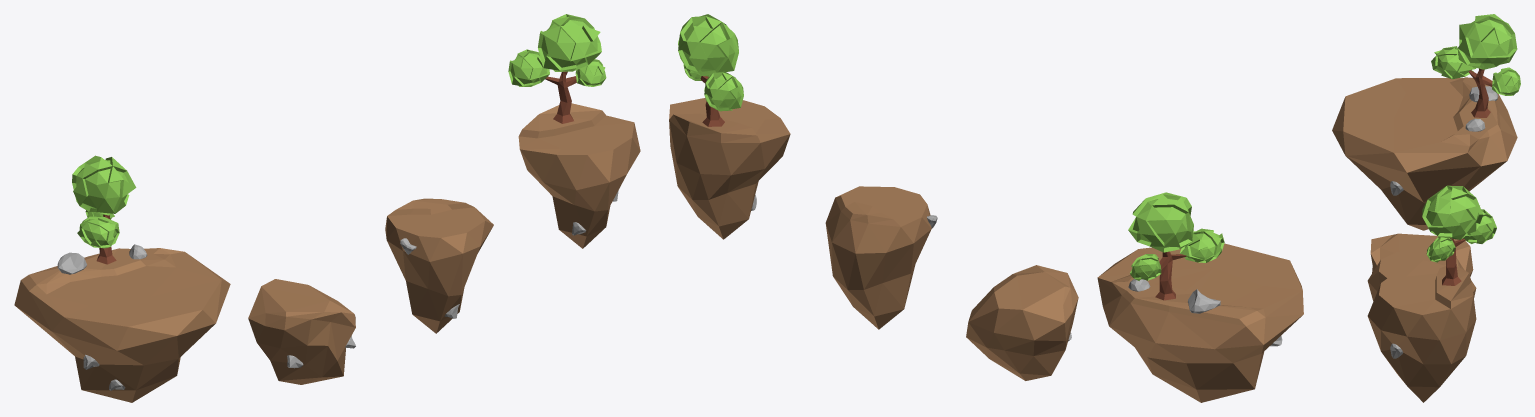
The model's file is platform_0.dae.
The picture shows the model from 3 angles, left to right: view 1: azimuth 30°, elevation 25°; view 2: azimuth 150°, elevation 25°; view 3: azimuth 270°, elevation 25°; orthographic projection. The views are drawn at different scales.
Visible parts, largest first — view 1: plat_start, plat_end, plat_1, plat_0; view 2: plat_start, plat_end, plat_1, plat_0; view 3: plat_start, plat_end, plat_0, plat_1.
Boxes of the visible parts, x1,y1,x2,y2 form: plat_start: (14,155,230,402); plat_end: (508,14,640,248); plat_1: (385,198,493,333); plat_0: (248,279,355,384); plat_start: (1097,192,1303,402); plat_end: (669,14,790,239); plat_1: (825,186,937,329); plat_0: (966,265,1078,380); plat_start: (1332,14,1520,230); plat_end: (1367,185,1496,402); plat_0: (1370,233,1473,276); plat_1: (1367,248,1476,300).
Size of the model in its own units: 12.67 by 3.59 by 5.88.
